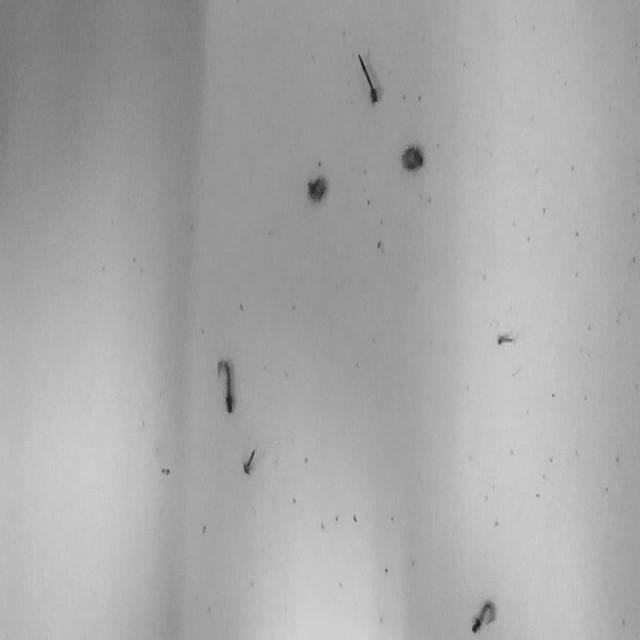larvas: (357, 50, 378, 104), (216, 356, 234, 414), (472, 596, 494, 633), (401, 144, 424, 172), (306, 176, 326, 202), (242, 442, 256, 473), (497, 333, 517, 343)
